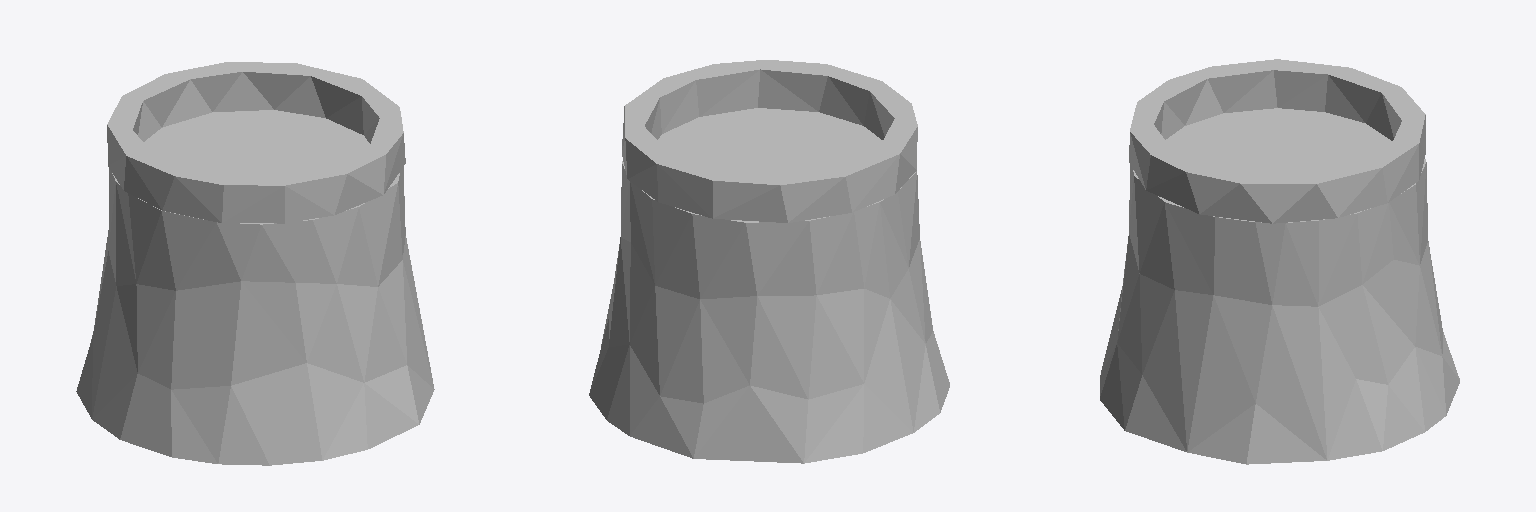
Rendered from col-kuka-swiwel.obj.
3 views of the same model, side by side, from view 1: azimuth 30°, elevation 25°; view 2: azimuth 150°, elevation 25°; view 3: azimuth 270°, elevation 25° (orthographic).
Bounding box in the file's own units: 145 × 119 × 146.